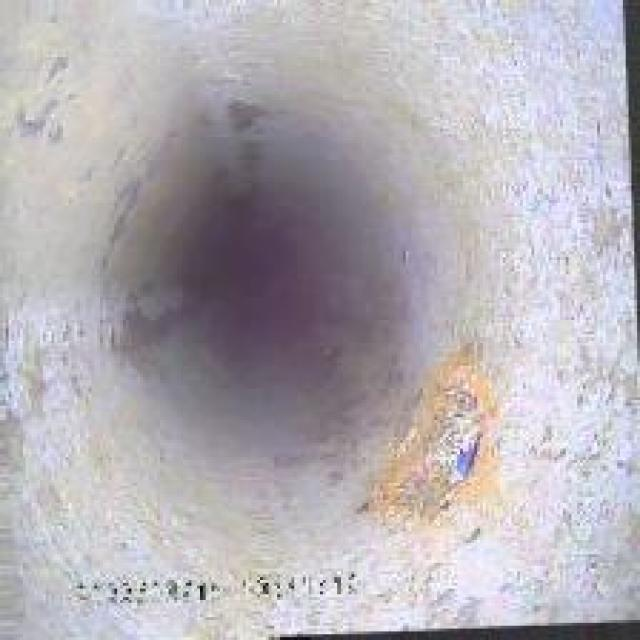ferrule: (360, 346, 497, 511)
